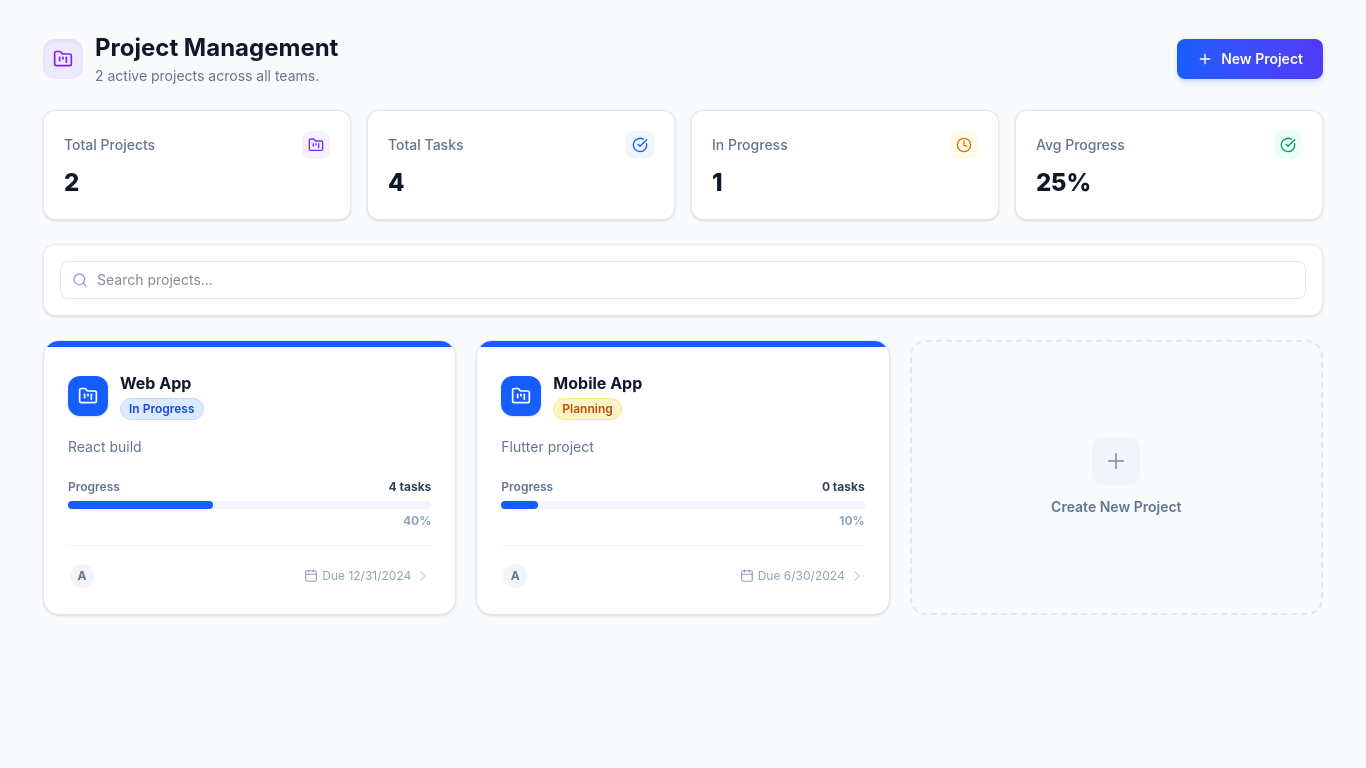
Test: Projects Component › opens project and shows kanban board with all stages
Click the heading "Web App".
click(162, 383)  # box [120,371,204,395]
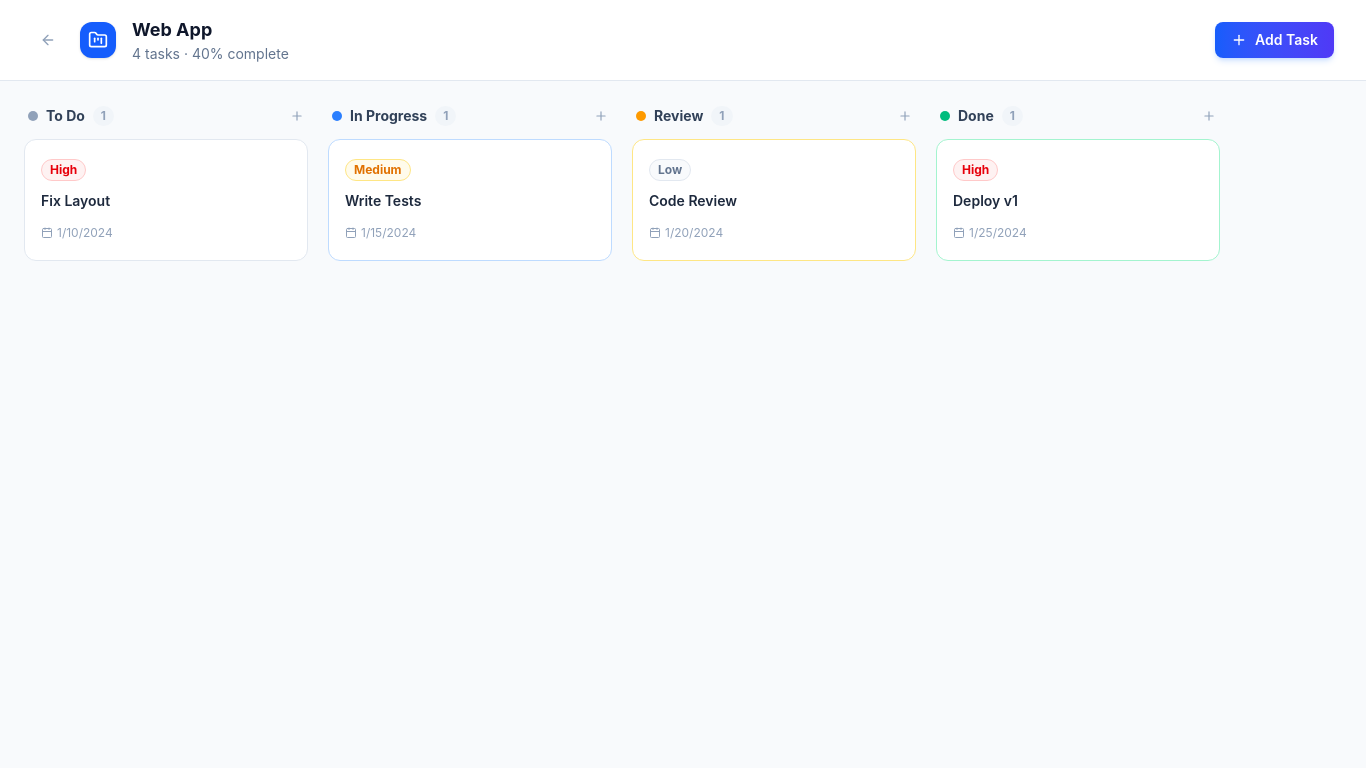
Expected: the text "To Do" is shown, [46,106,85,126]
Expected: the text "In Progress" is shown, [350,106,427,126]
Expected: the text "Review" is shown, [654,106,703,126]
